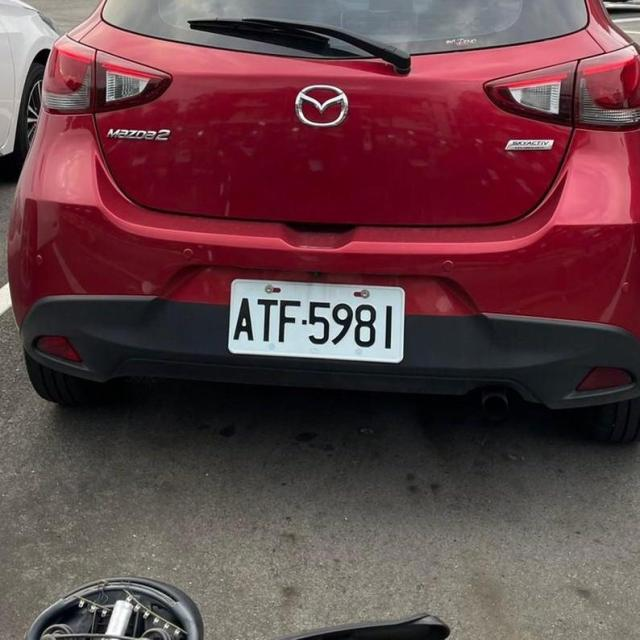W: (220, 268, 410, 372)
